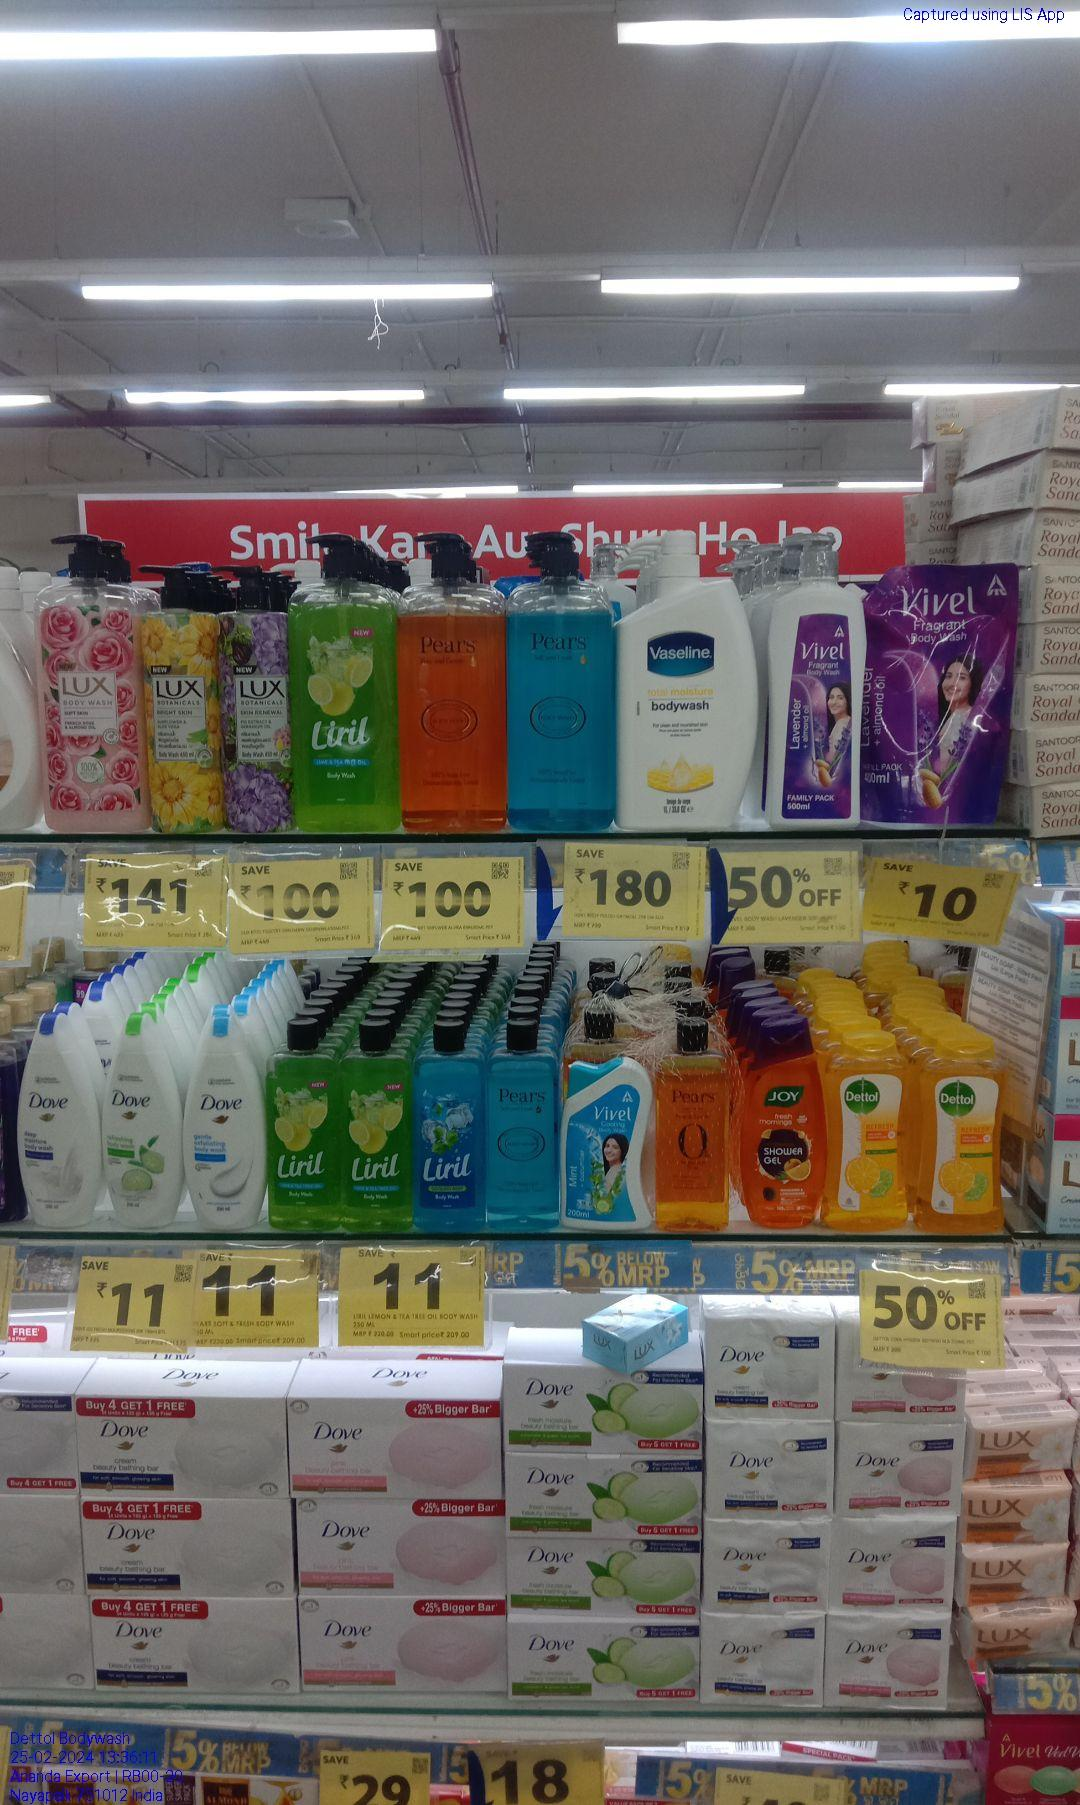Dettol_Bodywash_Refresh: (823, 1037, 908, 1232), (922, 1043, 1007, 1235)
Dove_Deep_Moisture_Body_Wash_250ML: (15, 1017, 98, 1230)
Dove_Gentle_Exfoliating_Body_Wash_250ML: (186, 1019, 266, 1230)
Dove_Refreshing_Body_Wash_250ML: (103, 1017, 181, 1229)
Joy_Shower_Gel_Mandarin_and_Lemongrass_250ML: (748, 1028, 820, 1226)
Liril_Cooling_Mint_Body_Wash_250ML: (420, 1025, 486, 1230)
Liril_Lime_and_Tea_Tree_Oil_Body_Wash_250ML: (346, 1022, 417, 1232), (274, 1021, 342, 1232)
Pears_Pure_Glycerin_and_Mint_Extracts_Body_Wash_250ML: (489, 1021, 563, 1229)
